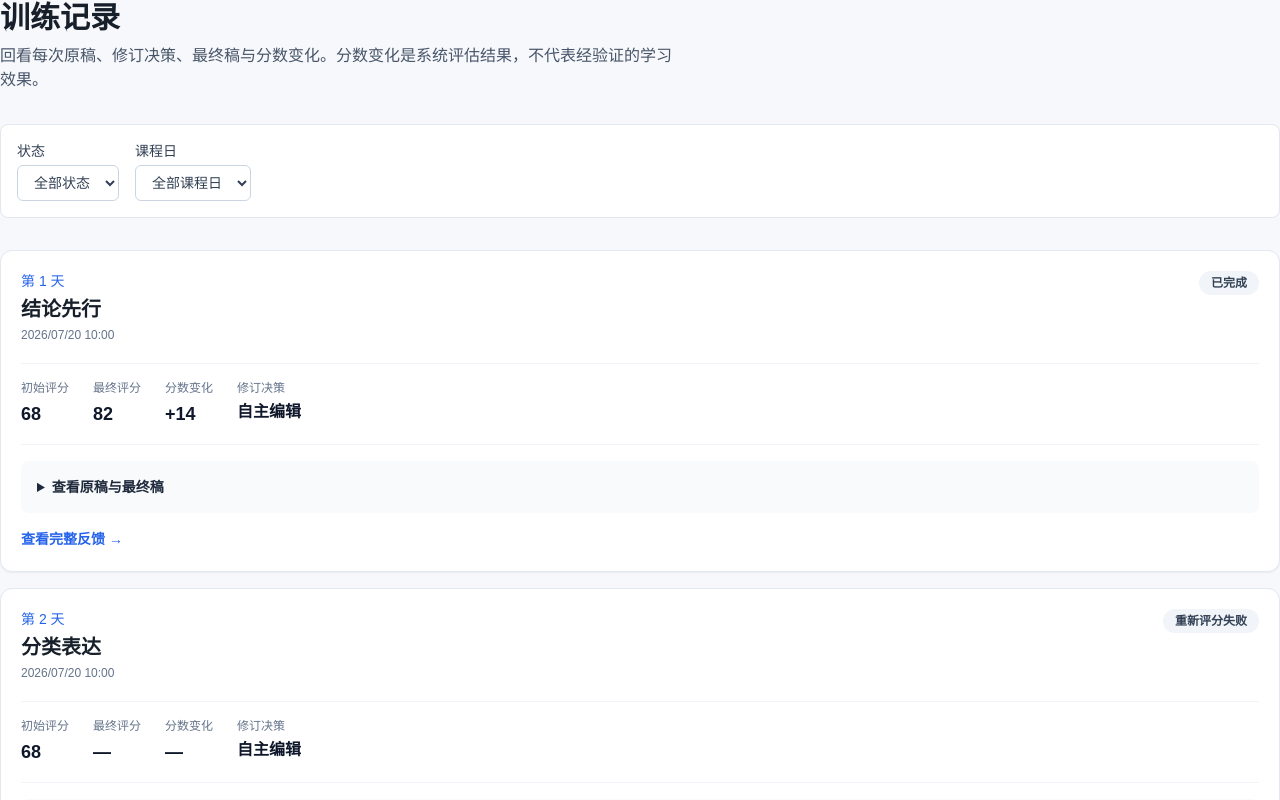
Test: Module 11 Dashboard and History UI › filters history and exposes original and final answers
The width and height of the screenshot is (1280, 800).
Expected: the heading "训练记录" is shown, [0,1,120,34]
Expected: the heading "结论先行" is shown, [21,295,114,323]
Select "失败" in the dropdown labelled "状态" at coordinates (68, 183), box [17,165,119,201]
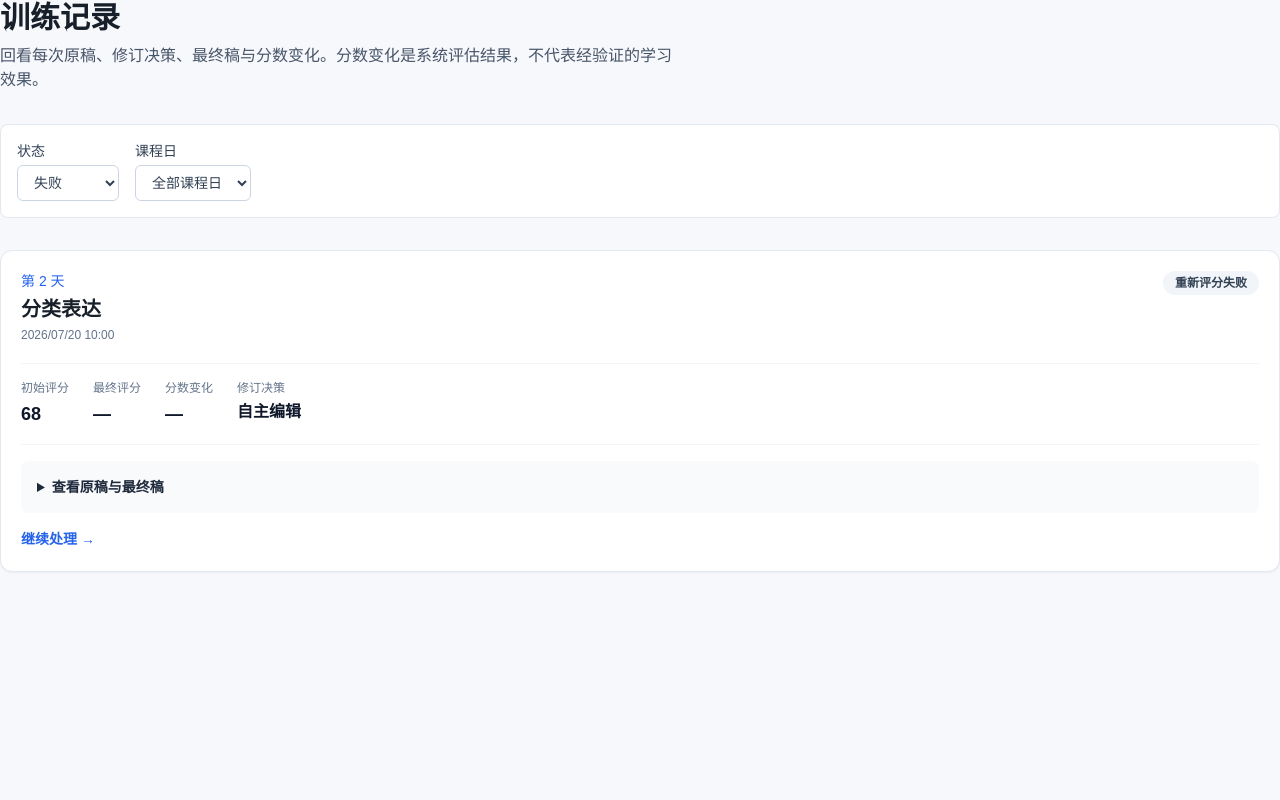
Expected: the heading "分类表达" is shown, [21,295,114,323]
Now the heading "结论先行" is gone
Select "已完成" in the dropdown labelled "状态" at coordinates (68, 183), box [17,165,119,201]
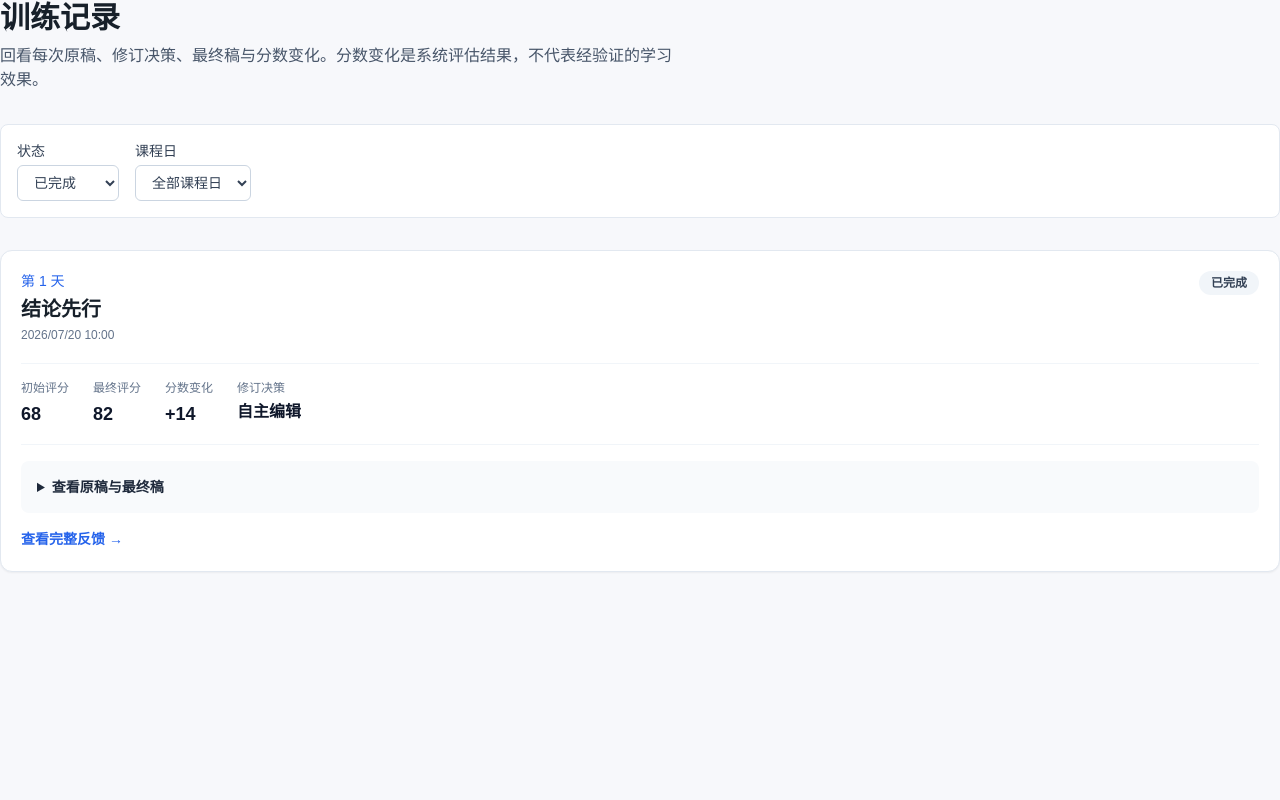
Select "第 1 天" in the dropdown labelled "课程日" at coordinates (193, 183), box [135,165,251,201]
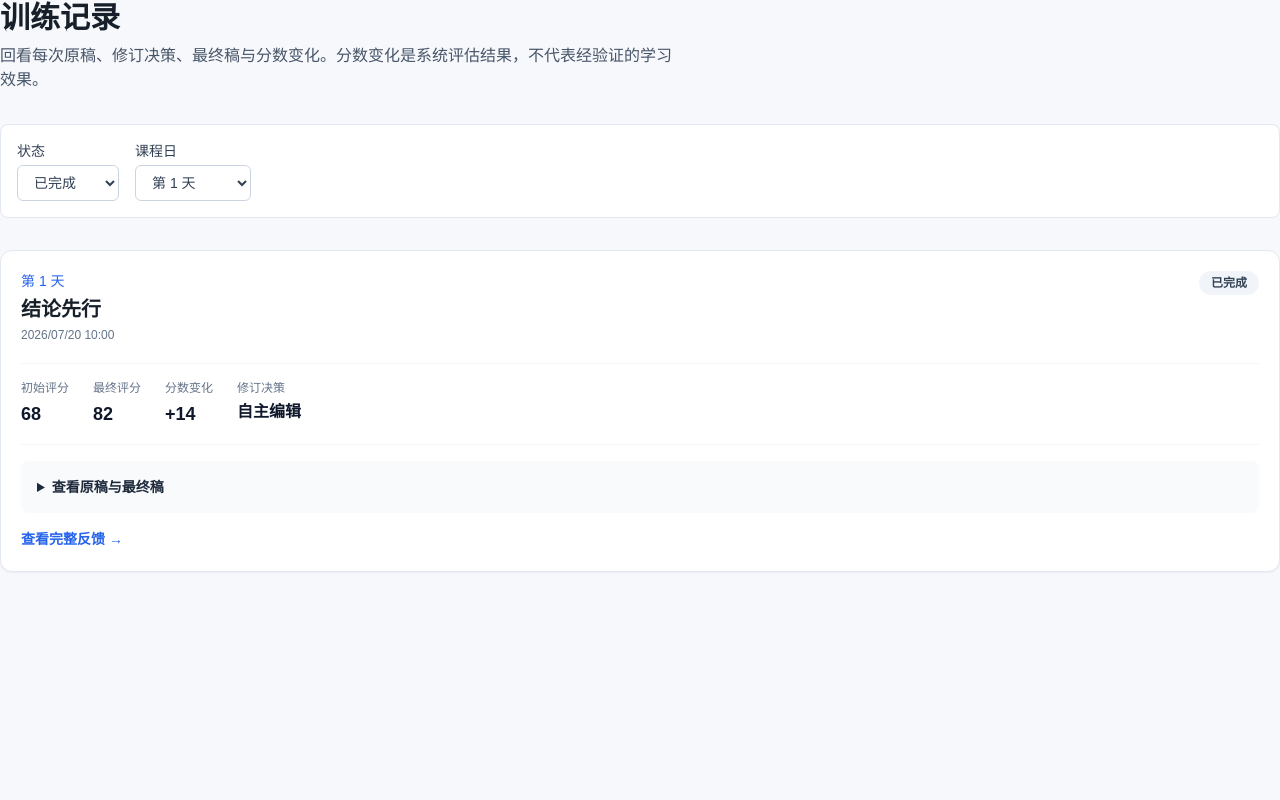
Click the heading "查看原稿与最终稿" at coordinates (108, 487), box [52,479,164,495]
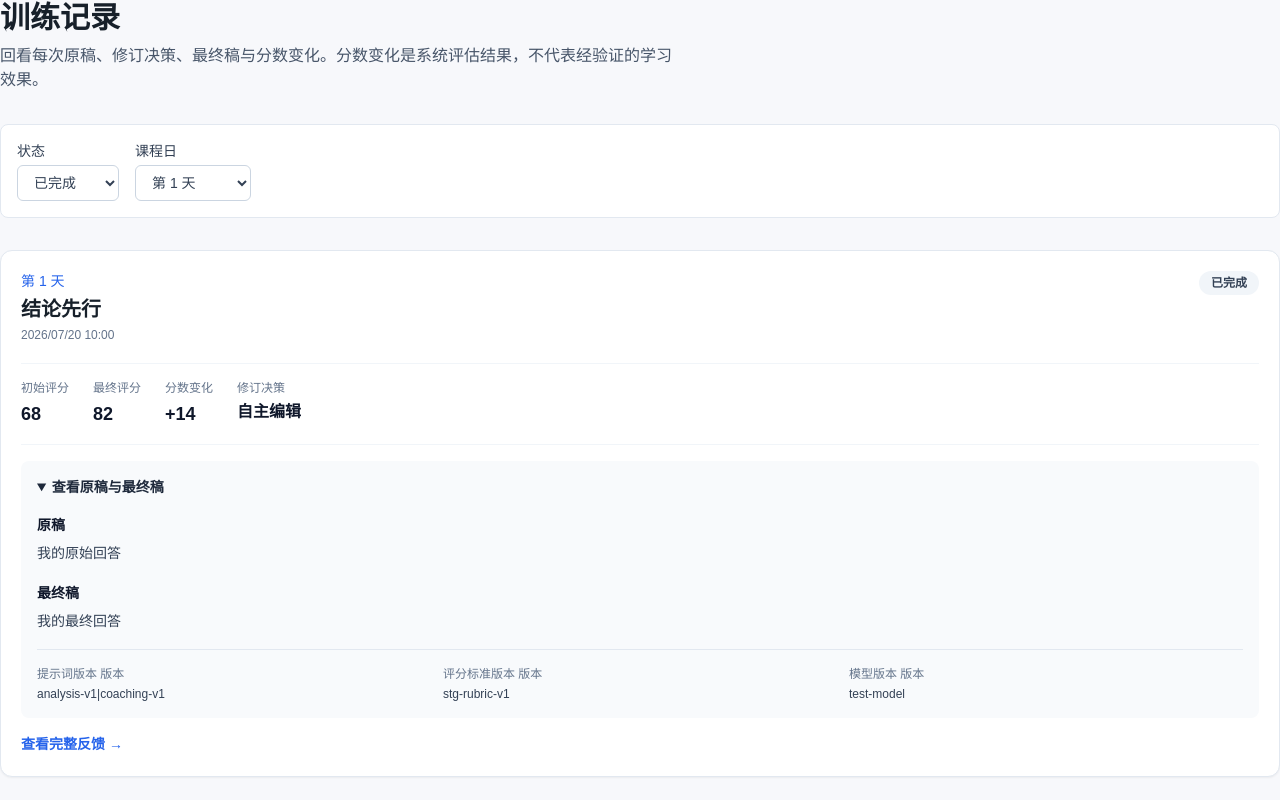
Now the text "我的原始回答" is shown, box [37,545,121,561]
Now the text "我的最终回答" is shown, box [37,613,121,629]
